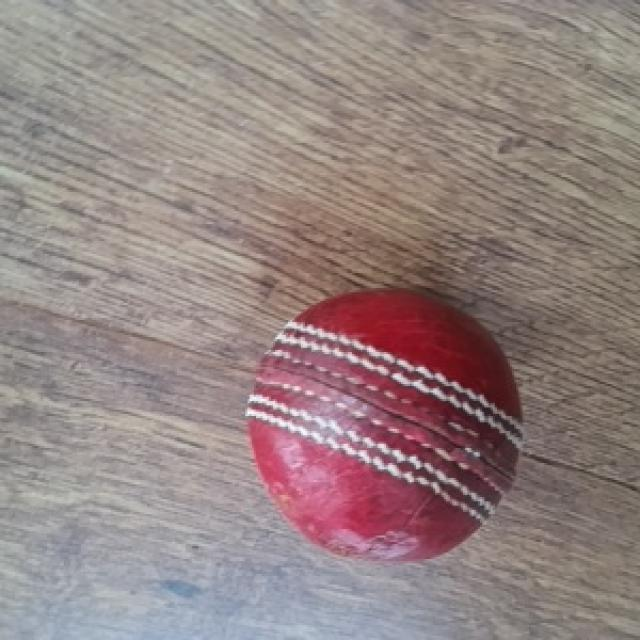ball: (240, 304, 528, 571)
